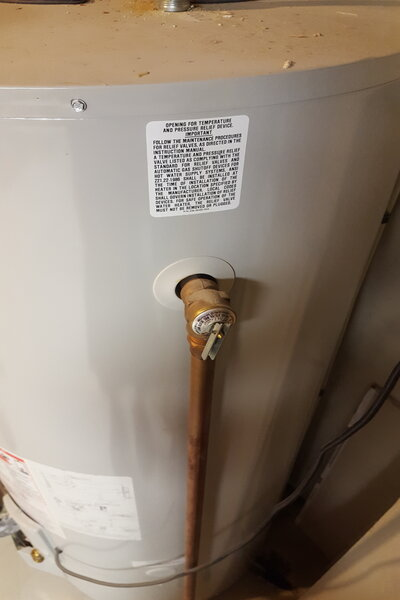valve: (174, 272, 236, 379)
